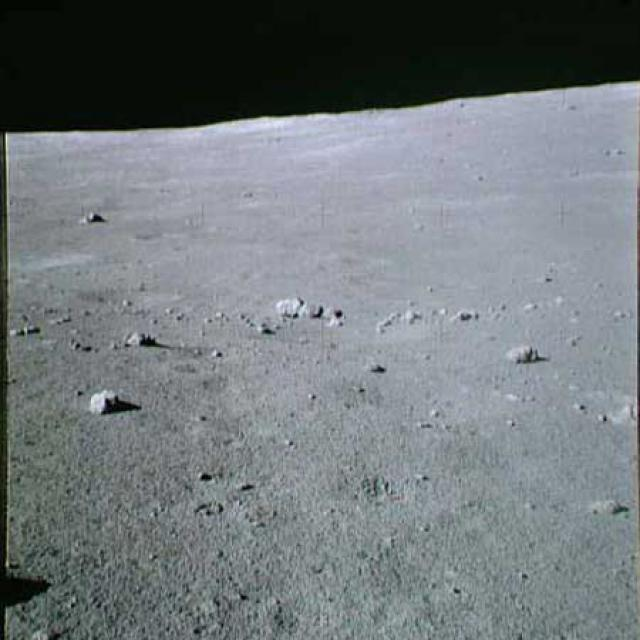rock: (268, 293, 345, 328), (365, 299, 423, 332), (80, 378, 126, 417), (502, 338, 540, 364), (122, 325, 158, 351), (446, 304, 478, 329), (78, 206, 106, 226)
